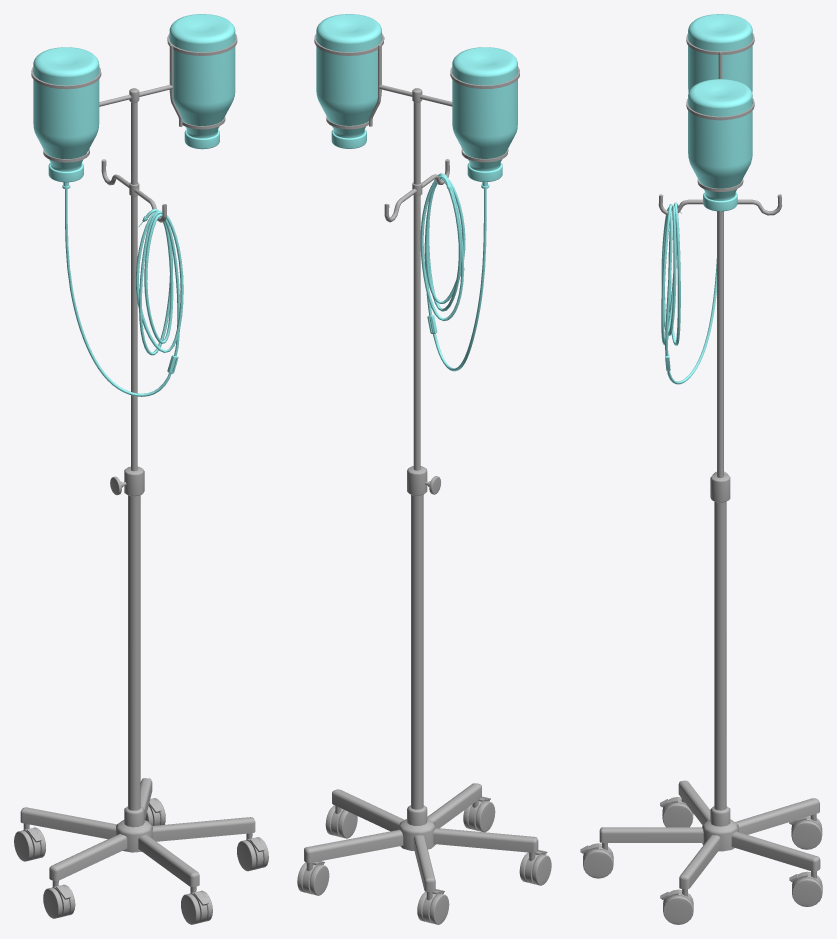
Rendered from Infusion_rack.fbx.
The picture shows the model from 3 angles, left to right: view 1: azimuth 30°, elevation 25°; view 2: azimuth 150°, elevation 25°; view 3: azimuth 270°, elevation 25°; orthographic projection. The views are drawn at different scales.
Parts seen in each view (by area): view 1: Infusion_rack, infusion_solution_1, infusion_solution_2, wheel_1, wheel_3, wheel_5, wheel_4; view 2: Infusion_rack, infusion_solution_1, infusion_solution_2, wheel_3, wheel_1, wheel_2, wheel_4, wheel_5; view 3: Infusion_rack, infusion_solution_2, infusion_solution_1, wheel_2, wheel_5, wheel_4, wheel_1, wheel_3.
Part boxes in pixels (<box>): Infusion_rack: <box>20,33,255,886</box>; infusion_solution_1: <box>33,47,183,396</box>; infusion_solution_2: <box>169,14,235,149</box>; wheel_1: <box>14,823,45,861</box>; wheel_3: <box>43,880,75,918</box>; wheel_5: <box>237,833,268,871</box>; wheel_4: <box>181,886,212,924</box>; Infusion_rack: <box>304,33,538,891</box>; infusion_solution_1: <box>420,47,517,371</box>; infusion_solution_2: <box>316,14,381,148</box>; wheel_3: <box>519,850,551,885</box>; wheel_1: <box>417,889,449,924</box>; wheel_2: <box>297,861,329,895</box>; wheel_4: <box>463,796,495,832</box>; wheel_5: <box>325,805,357,838</box>; Infusion_rack: <box>599,33,820,889</box>; infusion_solution_2: <box>688,79,752,211</box>; infusion_solution_1: <box>661,14,752,384</box>; wheel_2: <box>789,871,822,906</box>; wheel_5: <box>660,889,693,924</box>; wheel_4: <box>580,843,613,878</box>; wheel_1: <box>789,814,822,849</box>; wheel_3: <box>660,797,693,827</box>.
Size of the model in its own units: 40.5 by 153 by 41.04.
